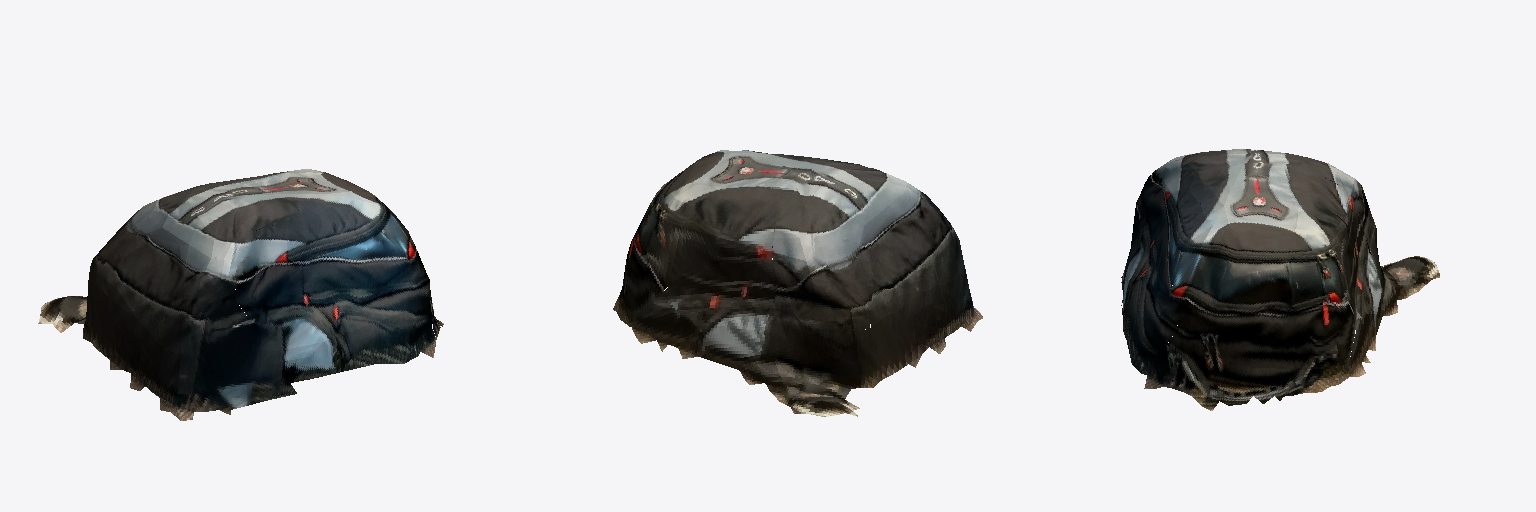
3 views of the same model, side by side, from view 1: azimuth 30°, elevation 25°; view 2: azimuth 150°, elevation 25°; view 3: azimuth 270°, elevation 25° (orthographic).
Visible parts, largest first — view 1: poly; view 2: poly; view 3: poly.
Part boxes in pixels (left/top/right/bottom): poly: left=38, top=169, right=443, bottom=420; poly: left=613, top=150, right=982, bottom=416; poly: left=1121, top=149, right=1439, bottom=410.
Size of the model in its own units: 0.5323 by 0.2646 by 0.4801.
Materials: 1 (1 with a texture image).